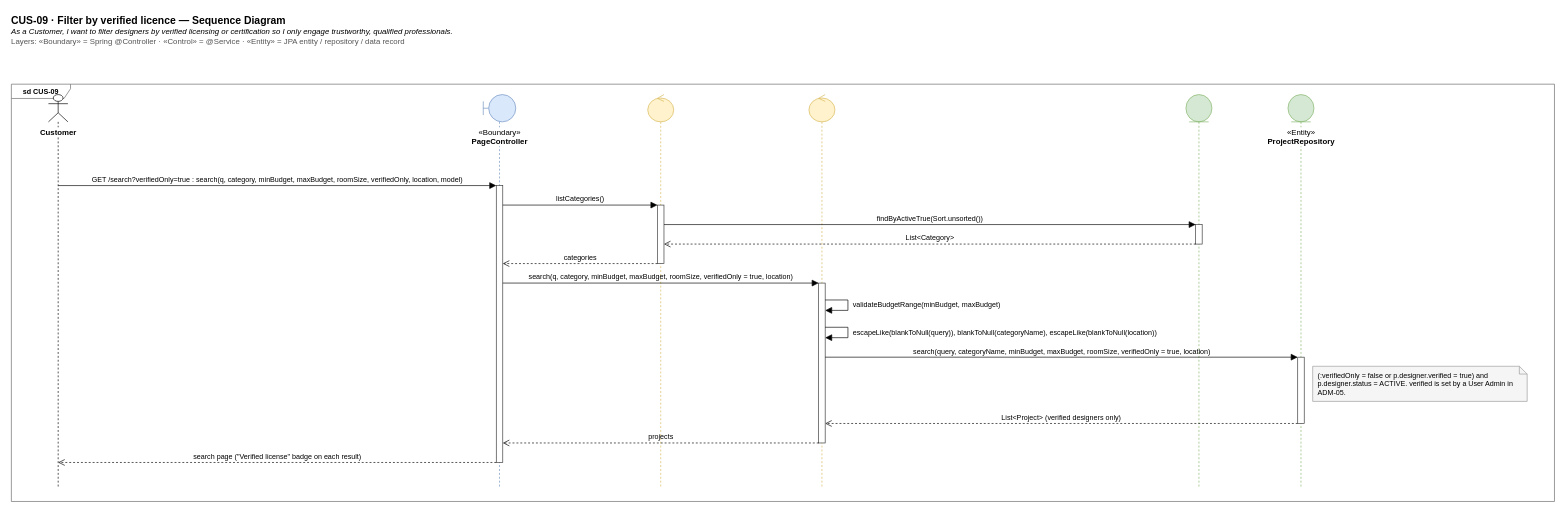
Image size: 1566x513. Some labels were removed from this diagram. The box of each missing label's shape, as (x1, y1, x2, y2) in pixels:
«Control» BrowseService: (808, 94, 835, 488)
«Control» ProjectService: (647, 94, 674, 488)
«Entity» CategoryRepository: (1185, 94, 1212, 488)
